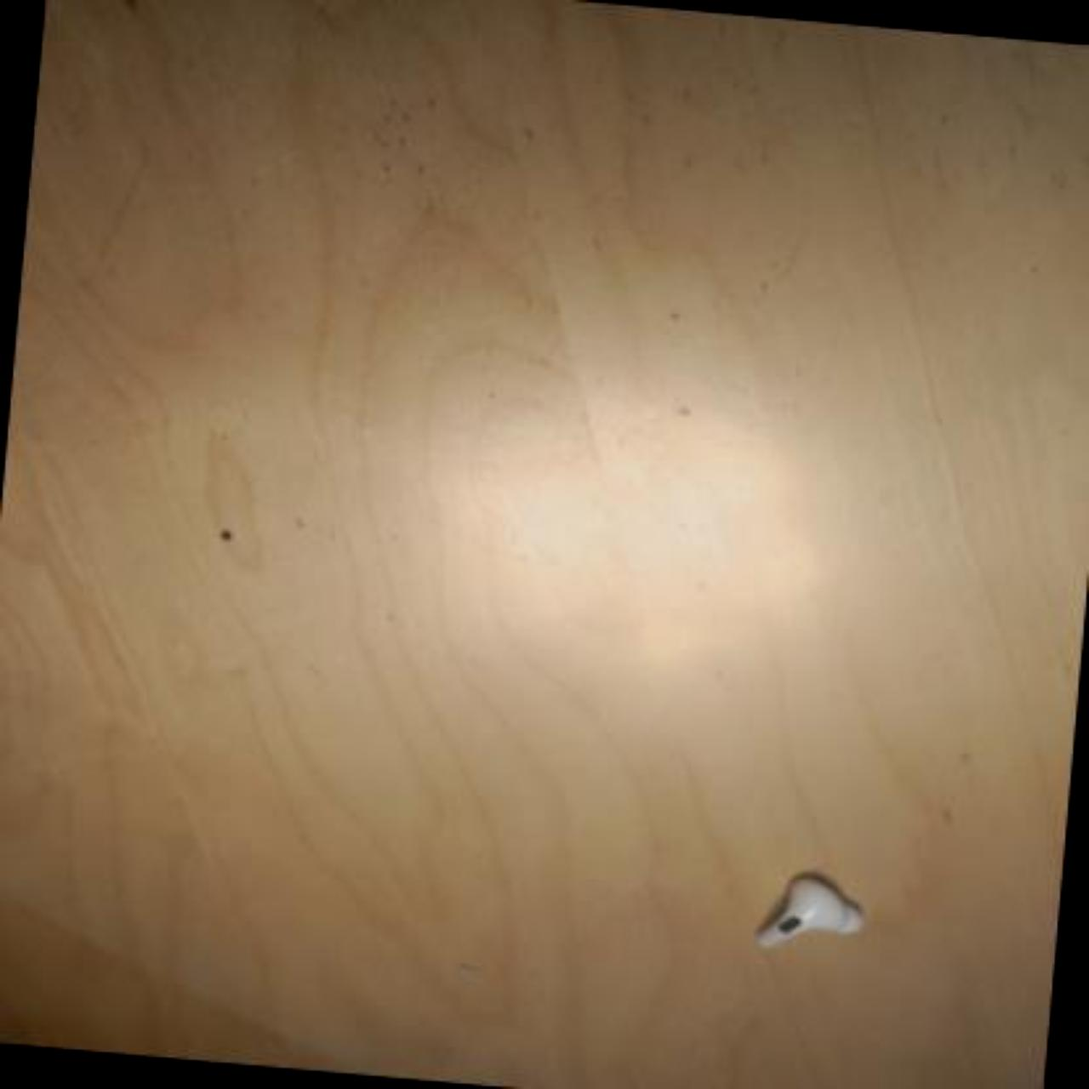Airpods_Units: (750, 872, 865, 955)
